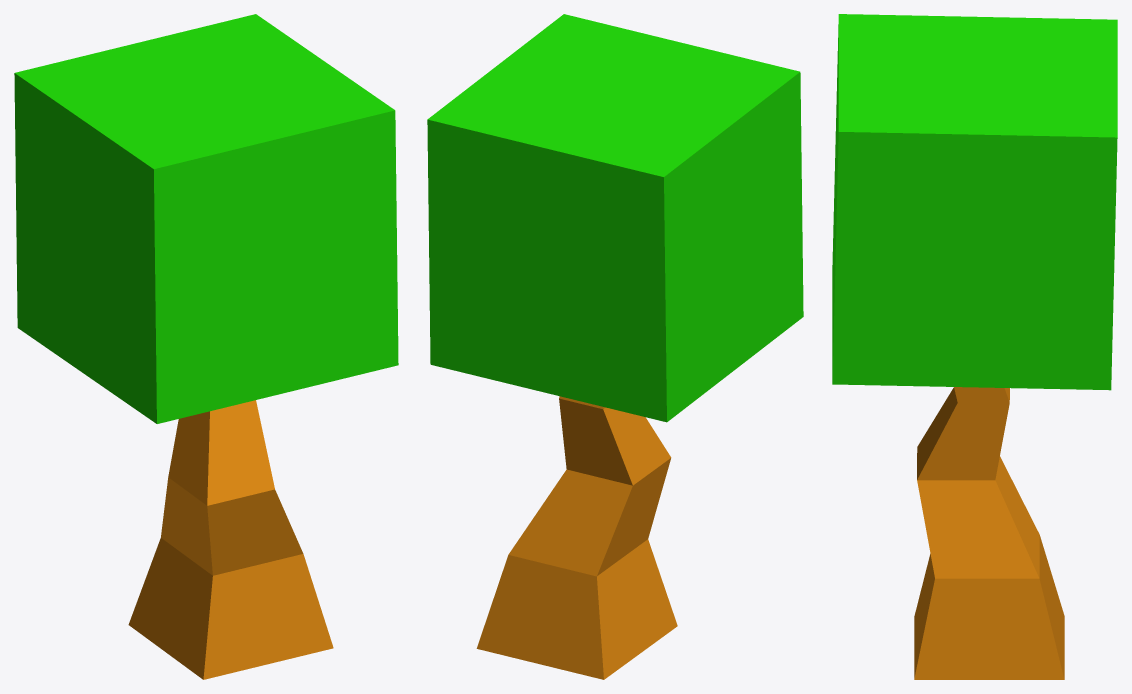
Rendered from Tree.fbx.
The picture shows the model from 3 angles, left to right: view 1: azimuth 30°, elevation 25°; view 2: azimuth 150°, elevation 25°; view 3: azimuth 270°, elevation 25°; orthographic projection. The views are drawn at different scales.
Parts seen in each view (by area): view 1: Tree; view 2: Tree; view 3: Tree.
Boxes of the visible parts, <box> form: Tree: <box>14,14,398,679</box>; Tree: <box>427,14,803,679</box>; Tree: <box>832,14,1117,679</box>.
Bounding box in the file's own units: 154 × 342 × 158.
